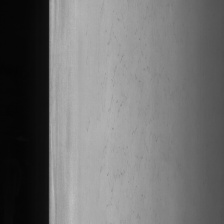silk_spot: (97, 19, 155, 192)
